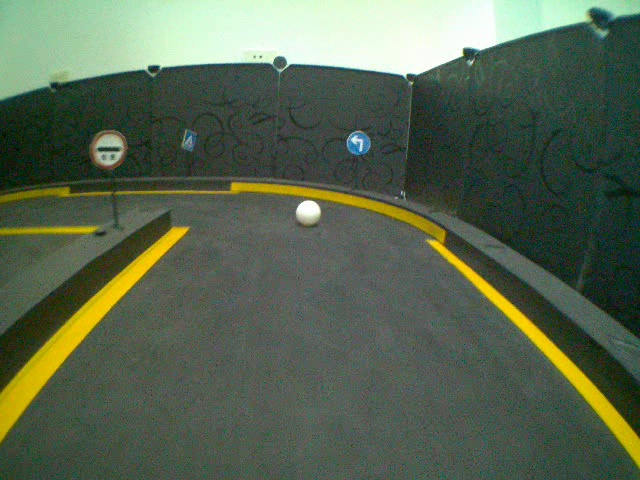ball: (294, 199, 322, 229)
